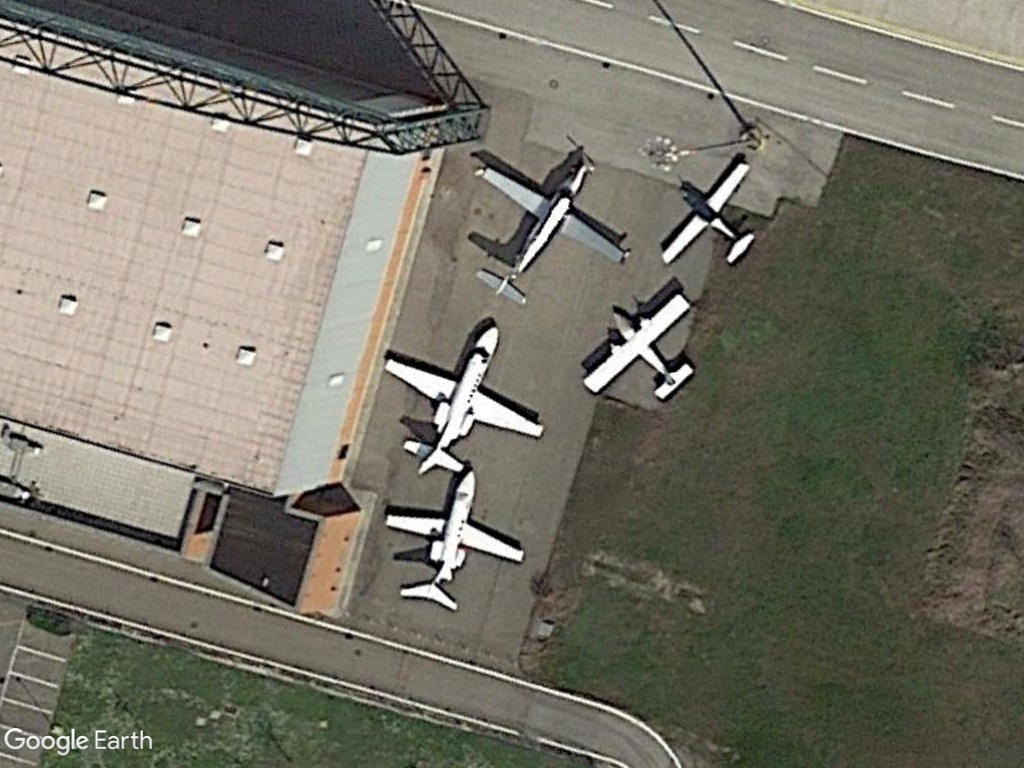chartered: (377, 313, 550, 478), (379, 468, 529, 612)
trainer: (464, 137, 633, 311), (574, 282, 701, 412), (655, 157, 763, 273)
